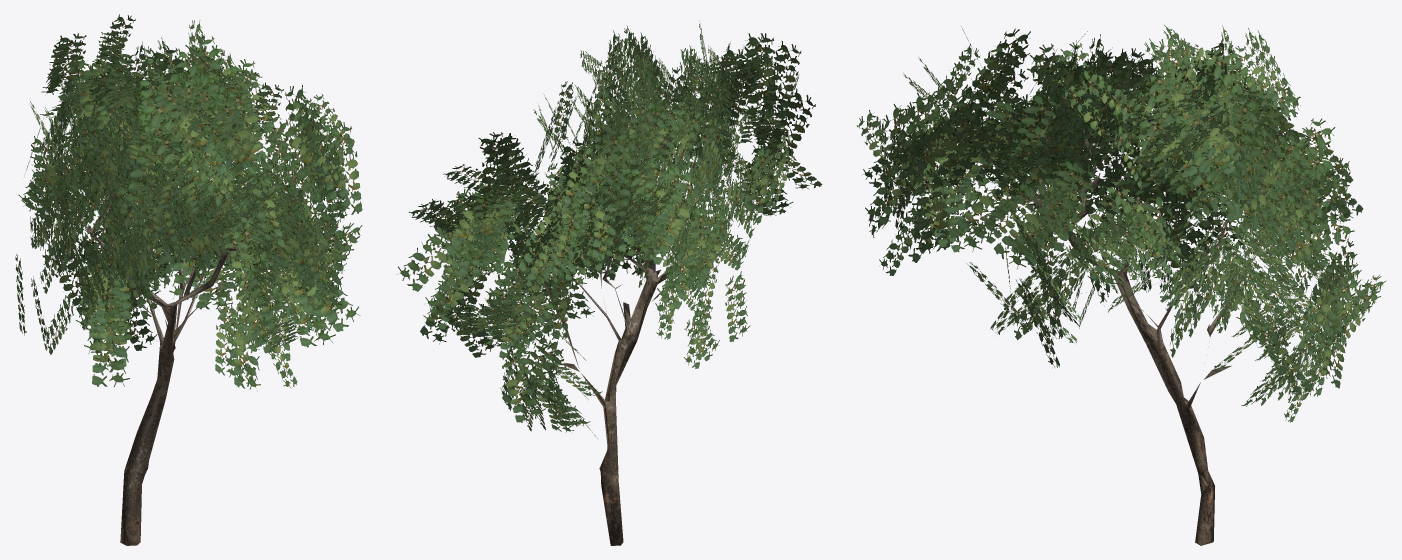
File: scenery_tree_small_02.glb
3 renders of one model, left to right at view 1: azimuth 30°, elevation 25°; view 2: azimuth 150°, elevation 25°; view 3: azimuth 270°, elevation 25°, orthographic. The views are drawn at different scales.
Visible parts, largest first — view 1: tree_small_02_LOD0; view 2: tree_small_02_LOD0; view 3: tree_small_02_LOD0.
Boxes of the visible parts, <box> form: tree_small_02_LOD0: <box>15,14,362,545</box>; tree_small_02_LOD0: <box>396,21,822,545</box>; tree_small_02_LOD0: <box>856,25,1385,545</box>.
Bounding box in the file's own units: 3.1 × 4.85 × 4.54.
3 materials, 3 textured.
